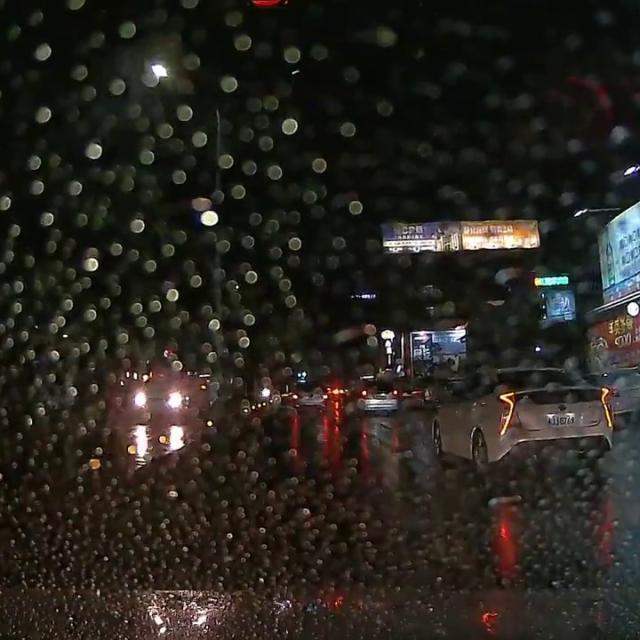Car: (428, 364, 615, 476), (352, 380, 397, 414), (290, 381, 327, 408)
